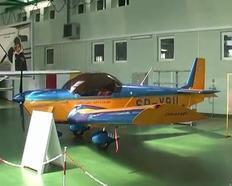aircraft: (11, 56, 222, 154)
